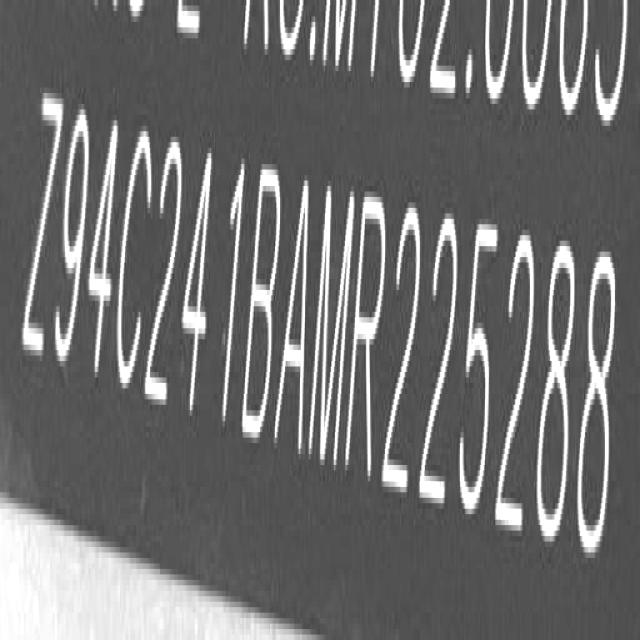1: (214, 158, 247, 438)
2: (499, 229, 540, 539), (422, 208, 462, 518), (385, 200, 425, 504), (147, 137, 183, 415)
4: (86, 110, 122, 389), (182, 141, 217, 423)
5: (457, 215, 499, 526)
8: (581, 258, 621, 560), (540, 244, 579, 552)
9: (54, 104, 92, 378)
A: (275, 172, 316, 453)
B: (242, 164, 284, 446)
C: (114, 121, 157, 402)
M: (308, 182, 352, 473)
R: (344, 193, 388, 490)
Z: (18, 86, 64, 374)
